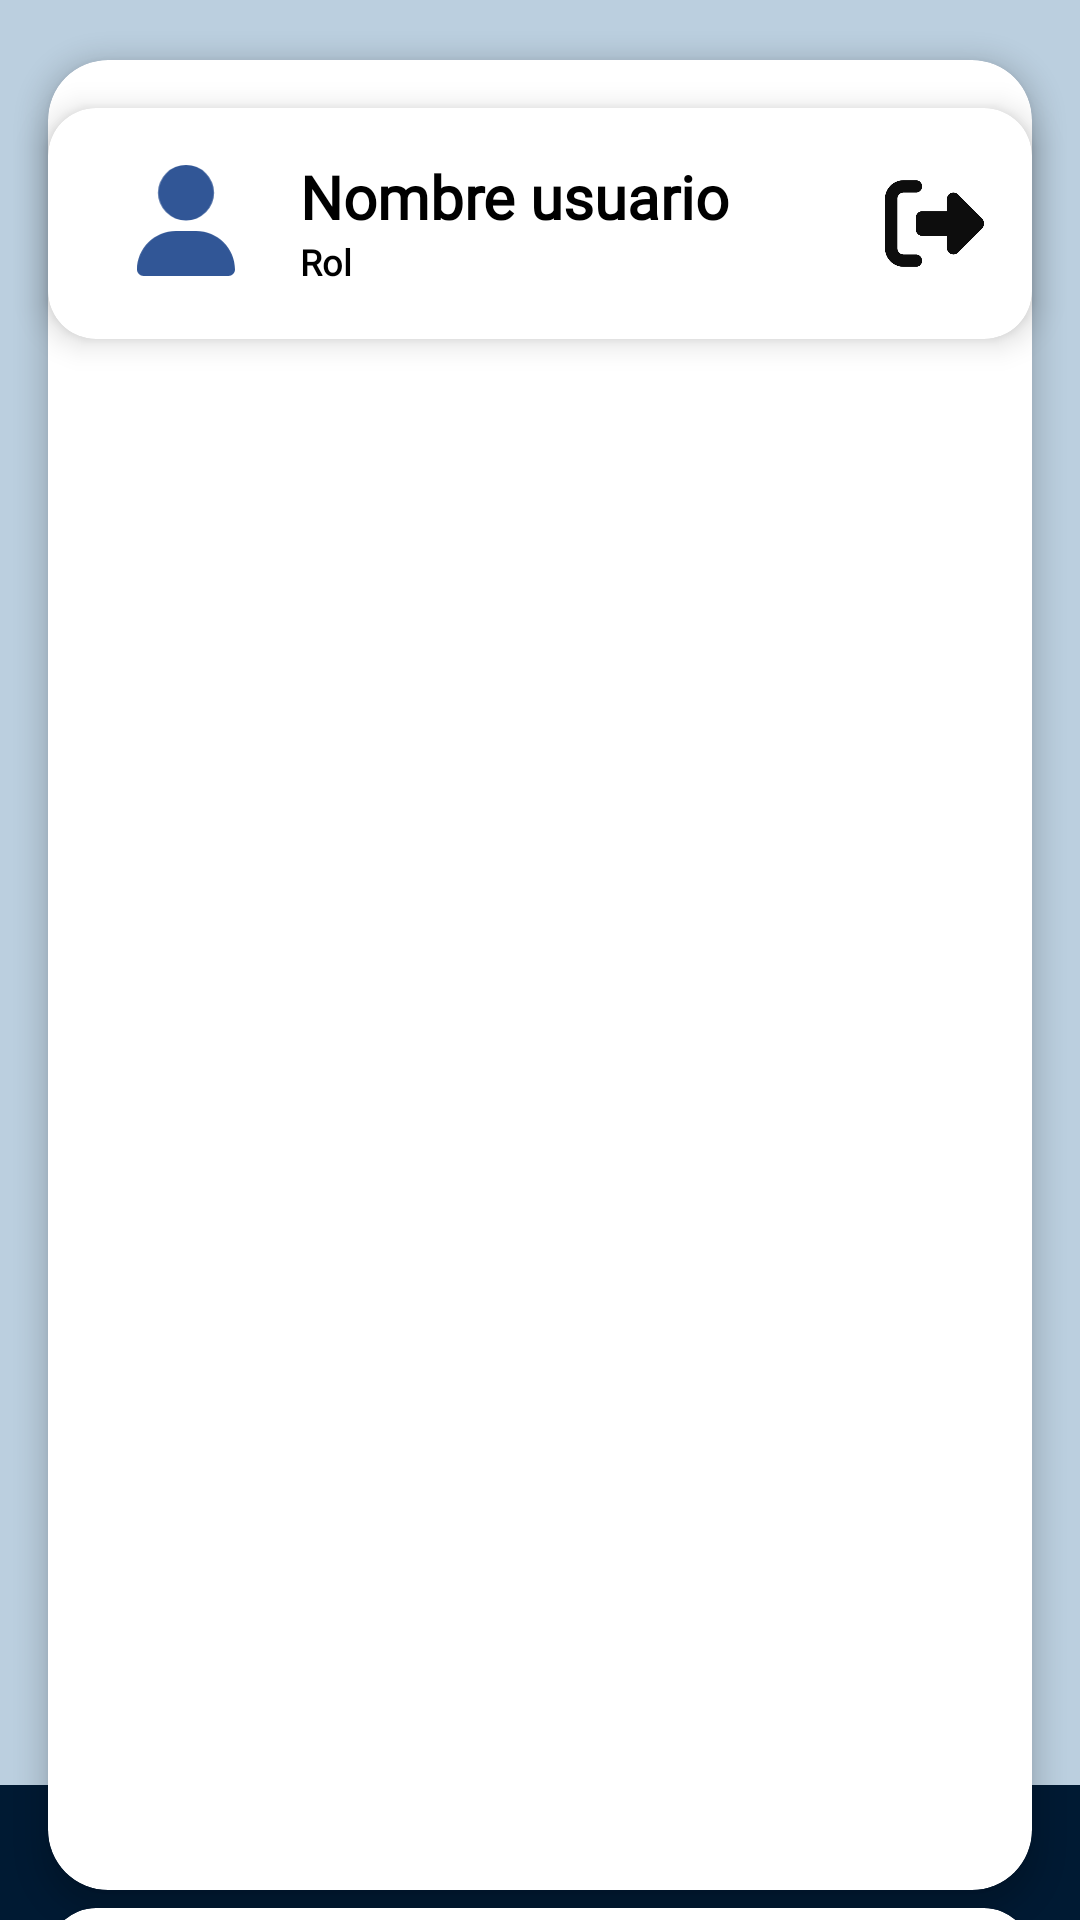

Where to tap for icons on this 1080px×1920px app screen, as point (x, y):
exit: point (934, 223)
user: point (186, 220)
